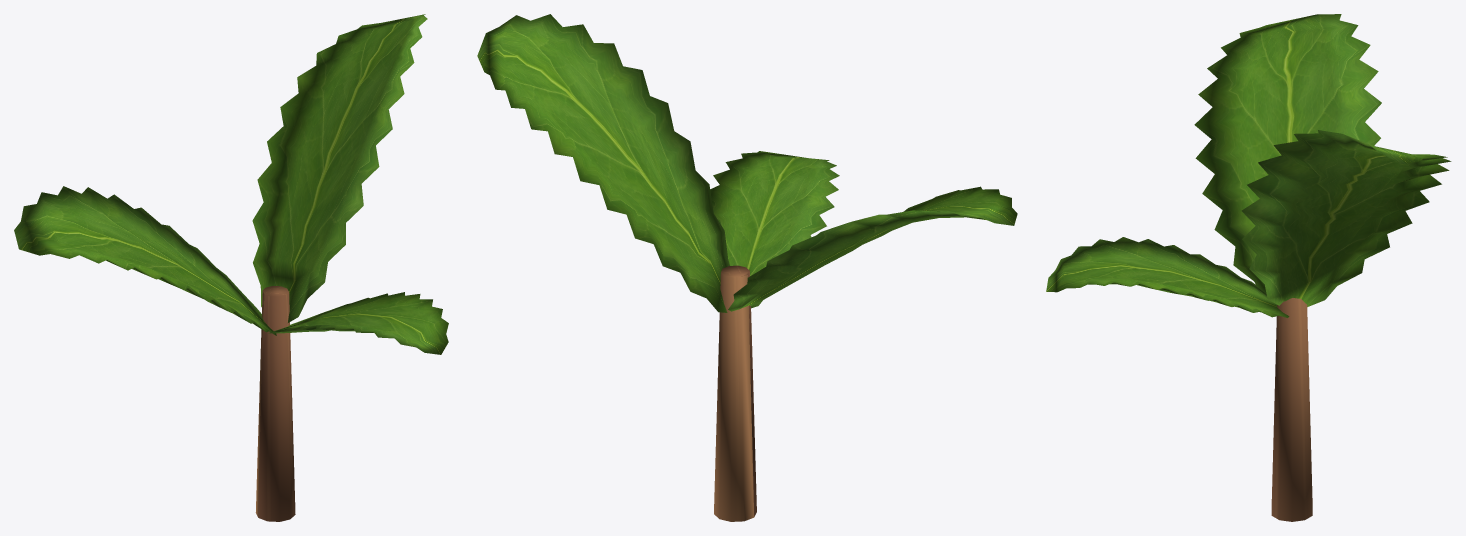
Rendered from NP_Raspberry_Sprout_LOD1.fbx.
3 renders of one model, left to right at view 1: azimuth 30°, elevation 25°; view 2: azimuth 150°, elevation 25°; view 3: azimuth 270°, elevation 25°, orthographic. The views are drawn at different scales.
Visible parts, largest first — view 1: NP_Raspberry_Sprout; view 2: NP_Raspberry_Sprout; view 3: NP_Raspberry_Sprout.
Part boxes in pixels (x1,y1,x2,y2): NP_Raspberry_Sprout: [14, 14, 448, 521]; NP_Raspberry_Sprout: [477, 14, 1017, 521]; NP_Raspberry_Sprout: [1046, 14, 1451, 521].
Size of the model in its own units: 36.19 by 33.54 by 26.16.
